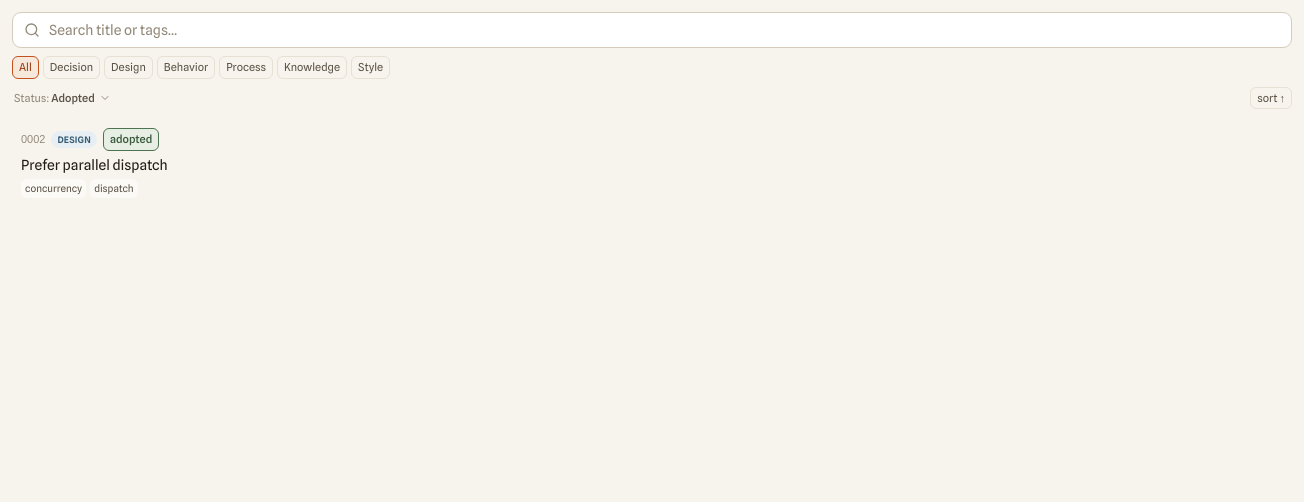
Test: NodesView index (search / filter / sort) › search is case-insensitive substring against title AND each tag (F2)
Click the button "Status: adopted": point(62, 98) [12,90,113,106]
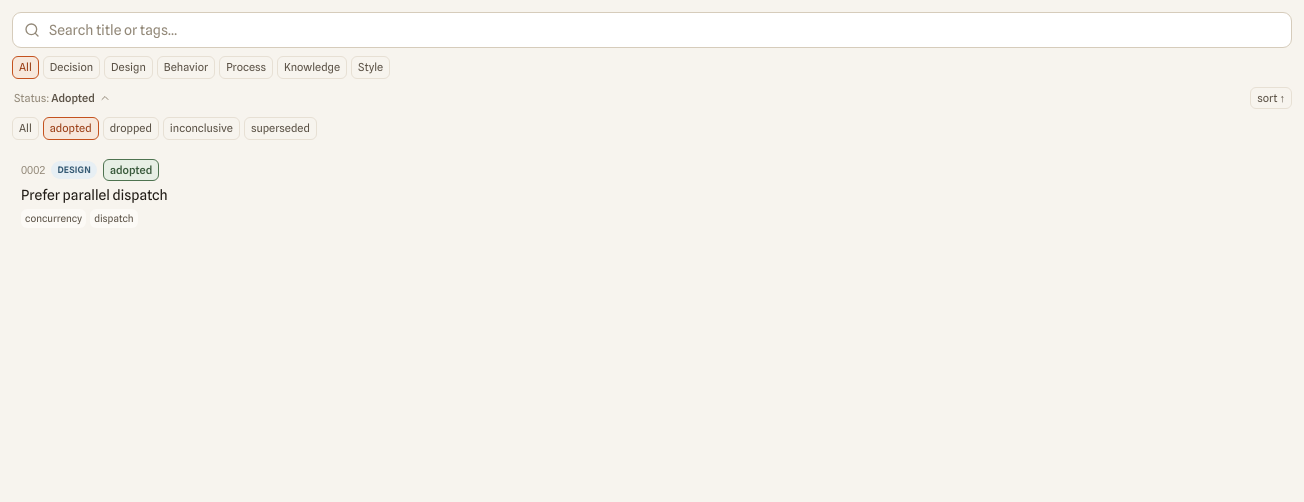
Click the 2nd radio button labelled "All": point(25, 128) [12,117,39,140]
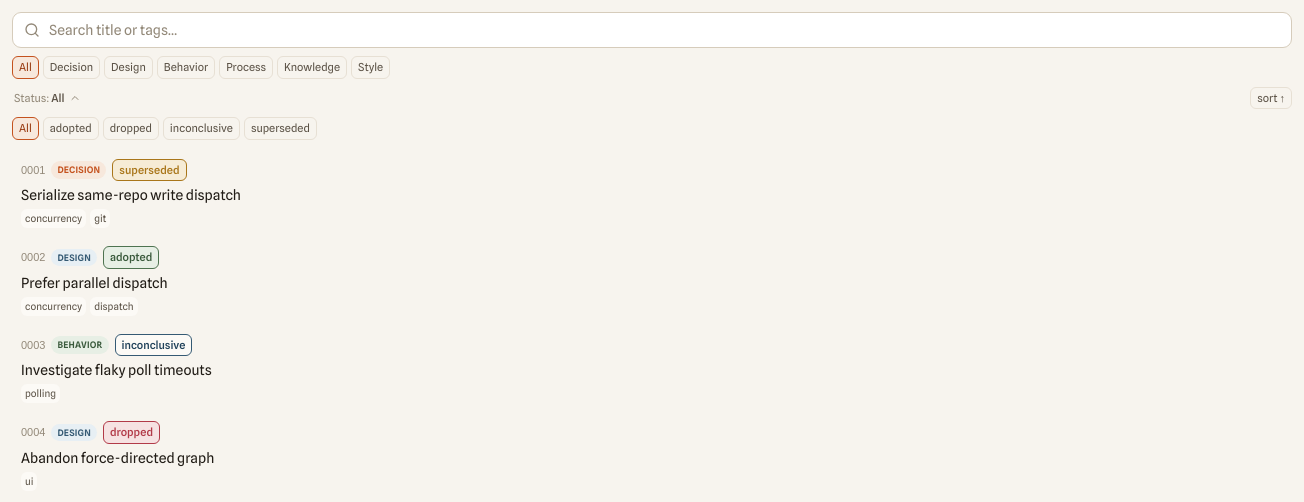
In the search field labelled "Search title or tags": point(652, 30) [12,12,1292,48], type "Dispatch"
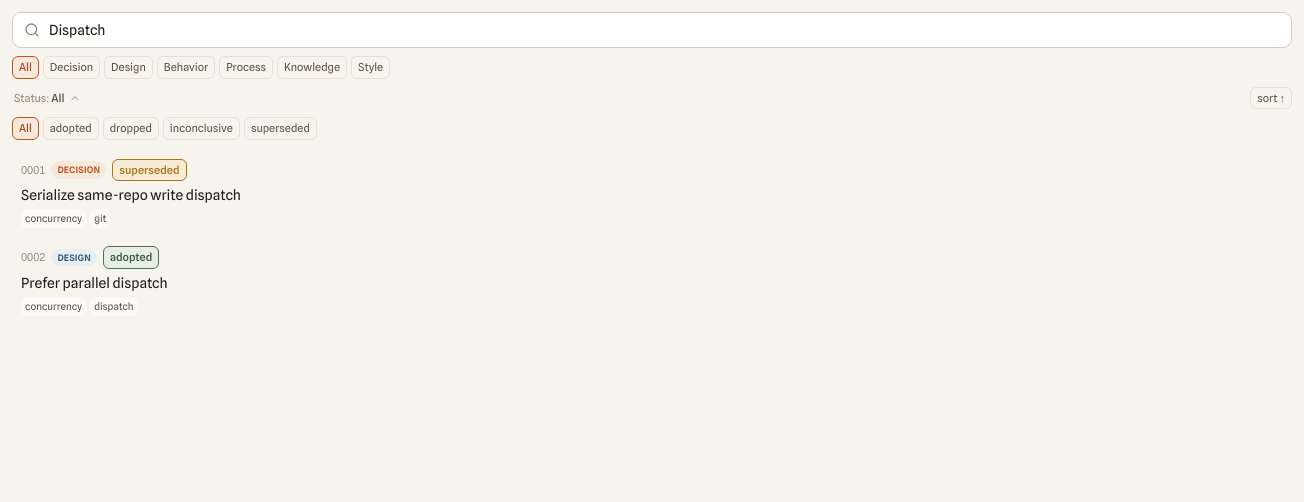
Expected: the button with test id "node-row-0001" is shown, [12,152,1292,235]
Expected: the button with test id "node-row-0003" is gone
Expected: the button with test id "node-row-0004" is gone
